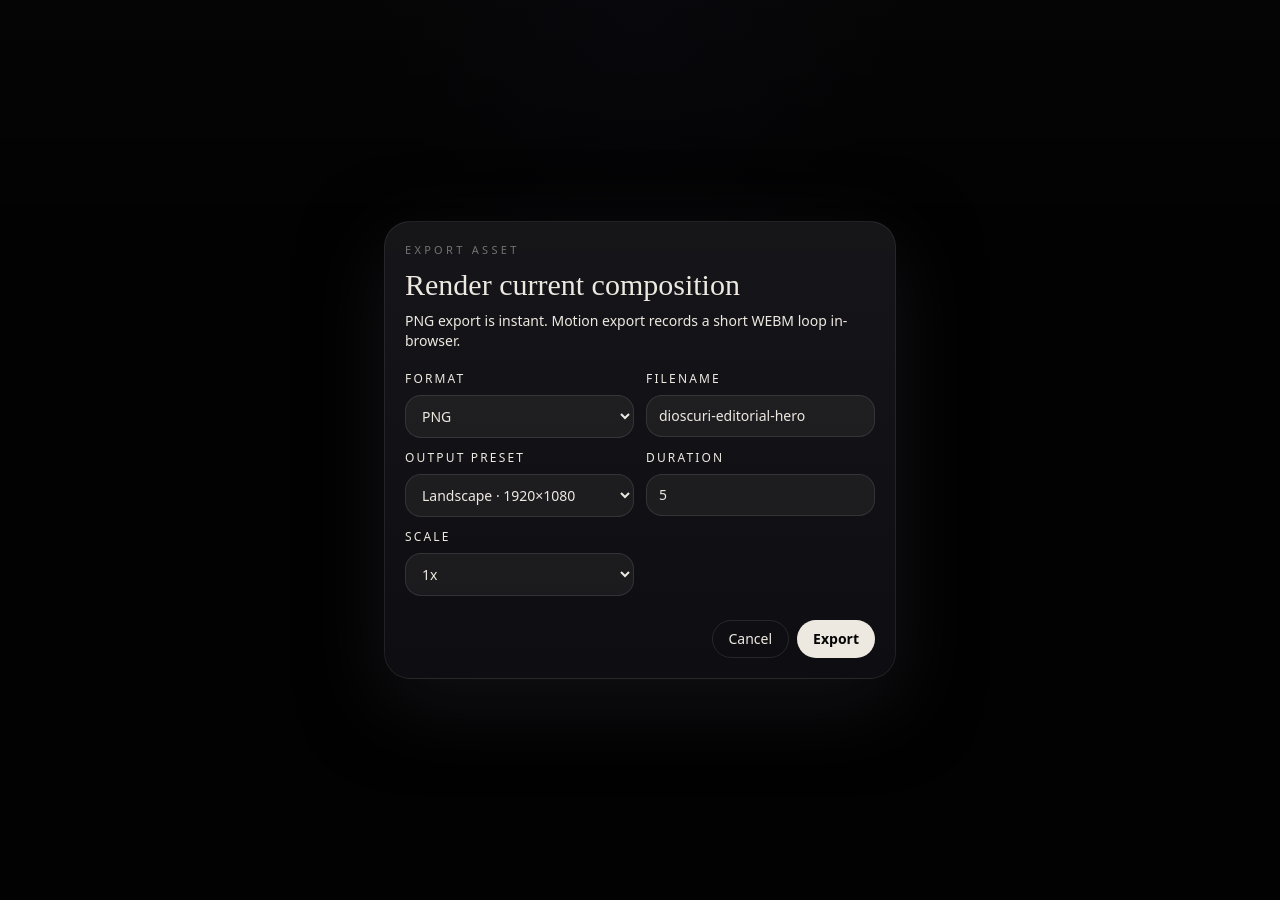
ExportDialog › shows export errors to the user
Click the button "Export" at coordinates (836, 639), box [797,620,875,658]
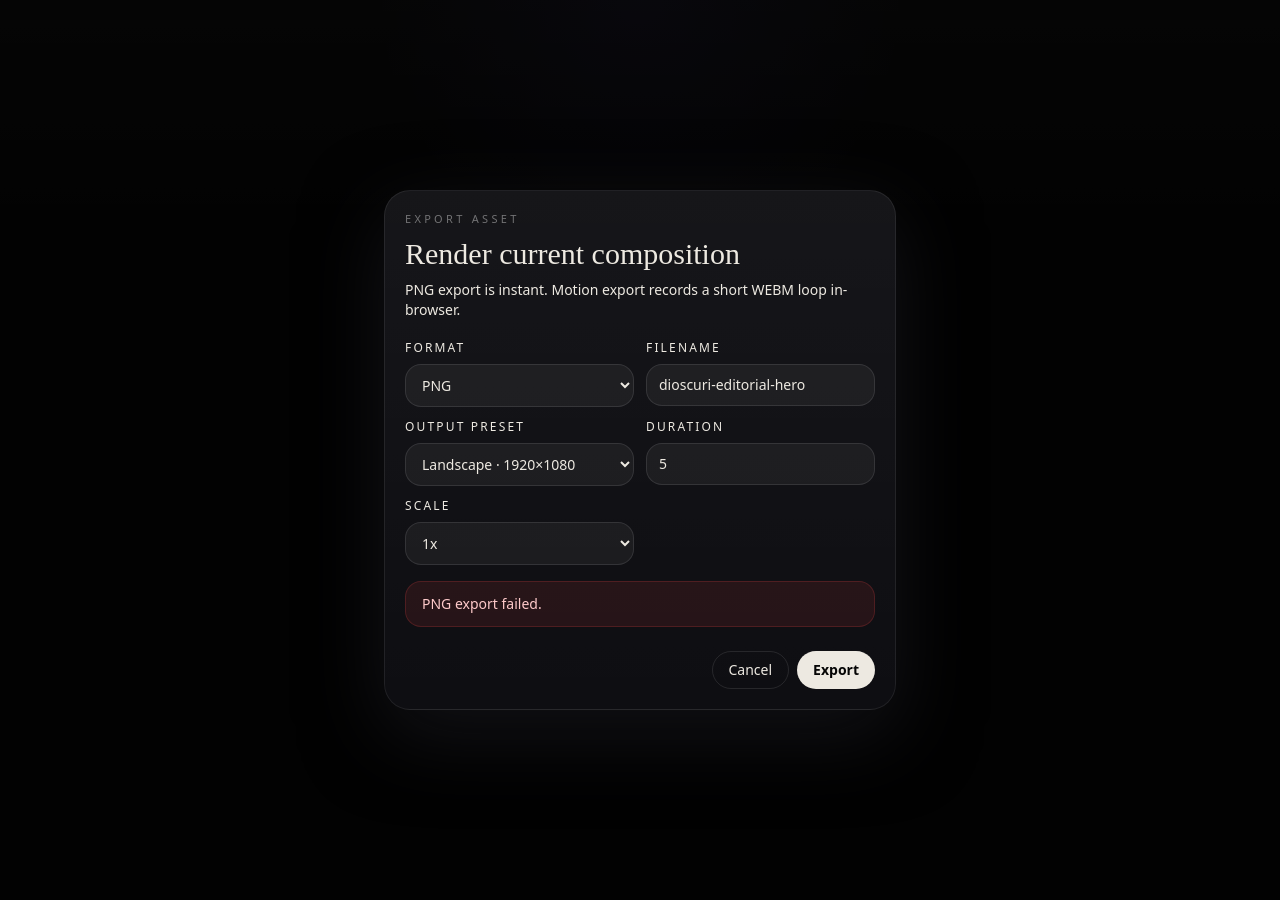
Now the text "PNG export failed." is shown, box [405,581,875,627]
